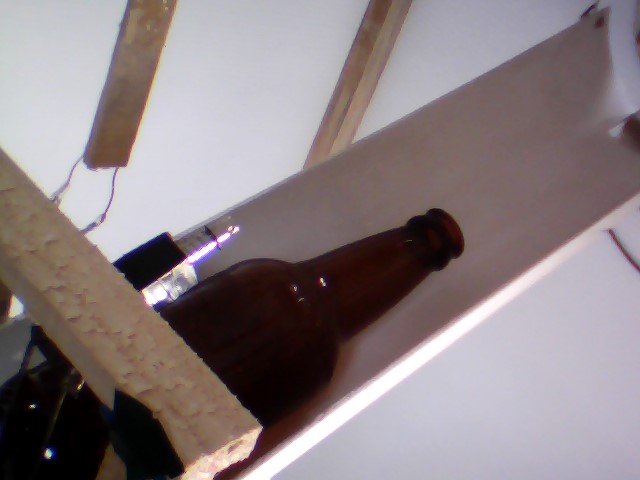vidrio: (204, 207, 472, 438)
